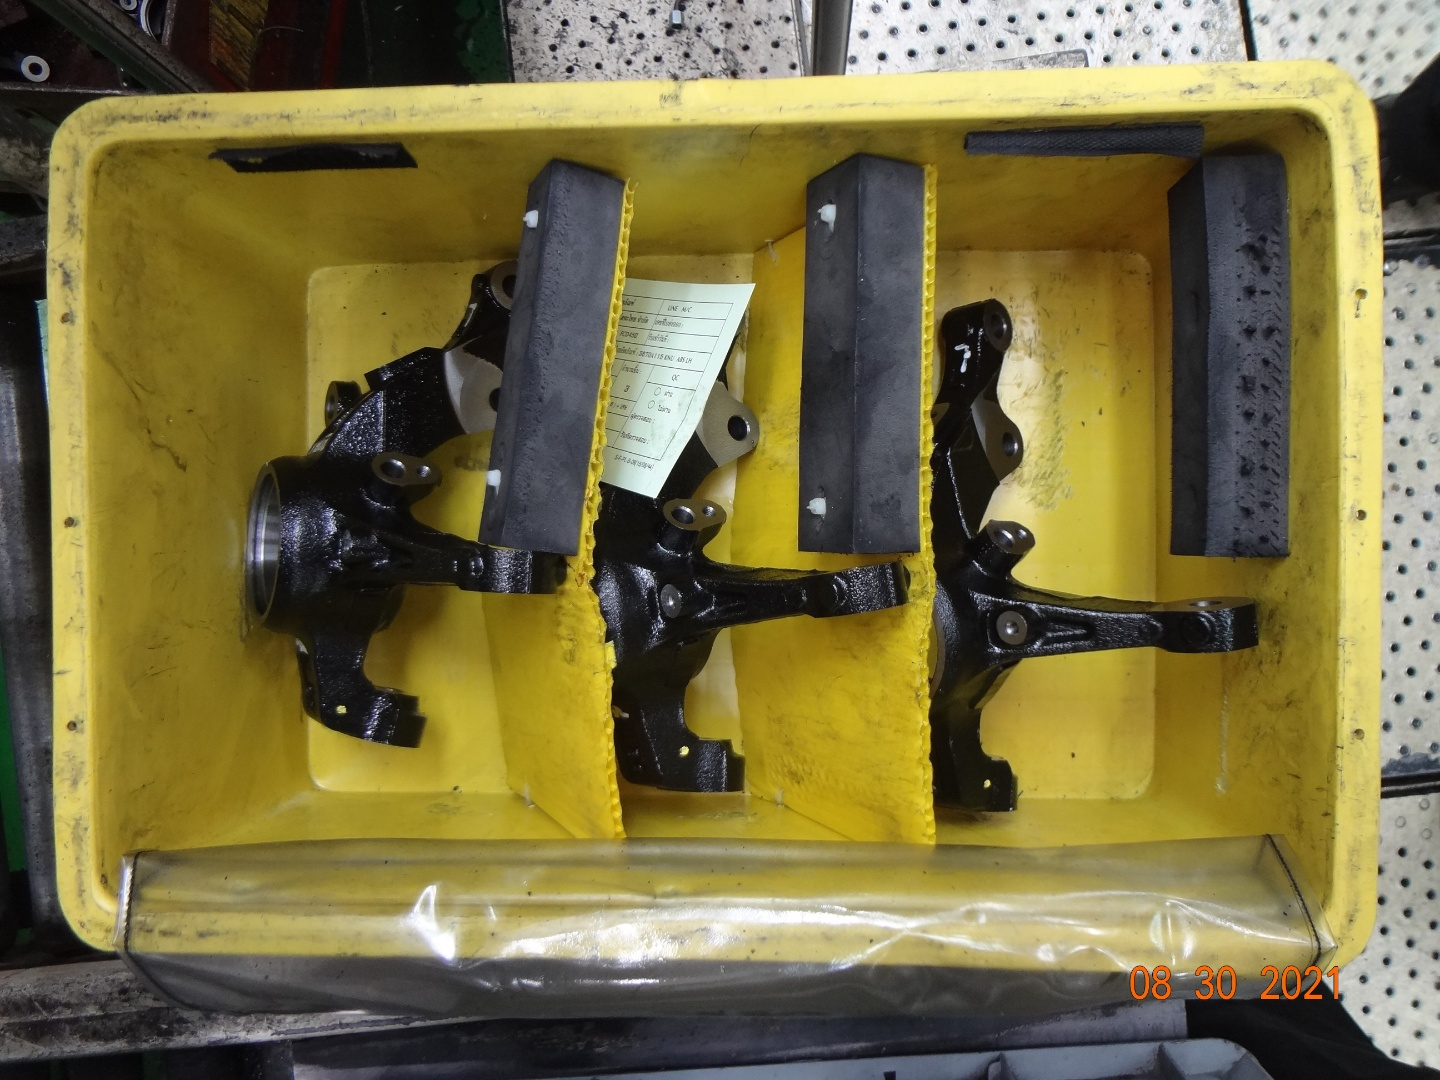abs-lh: (921, 292, 1271, 816), (239, 248, 574, 760), (583, 302, 915, 807)
